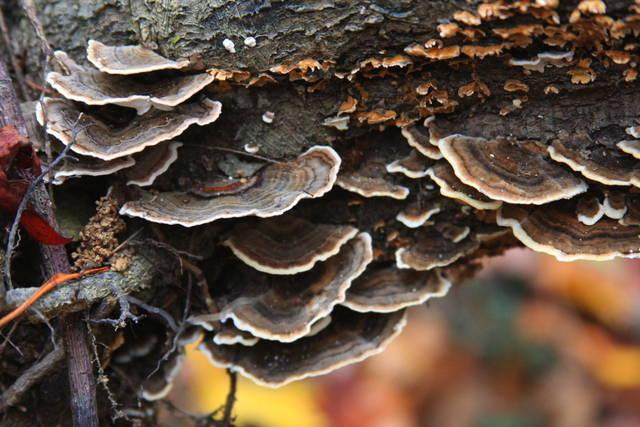poisonous_mushroom: (209, 105, 640, 376), (43, 29, 231, 190), (118, 142, 342, 228)
